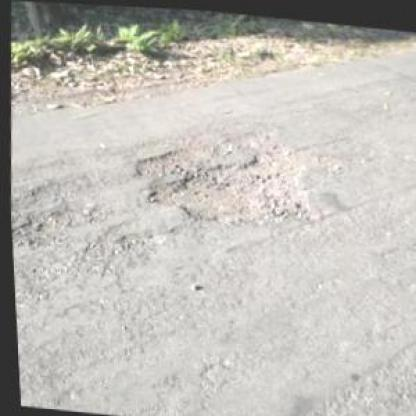pothole: (125, 115, 349, 236)
